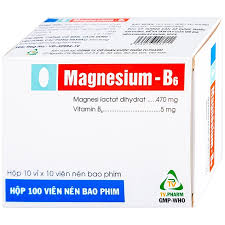Mg-B6: (65, 67, 179, 89)
